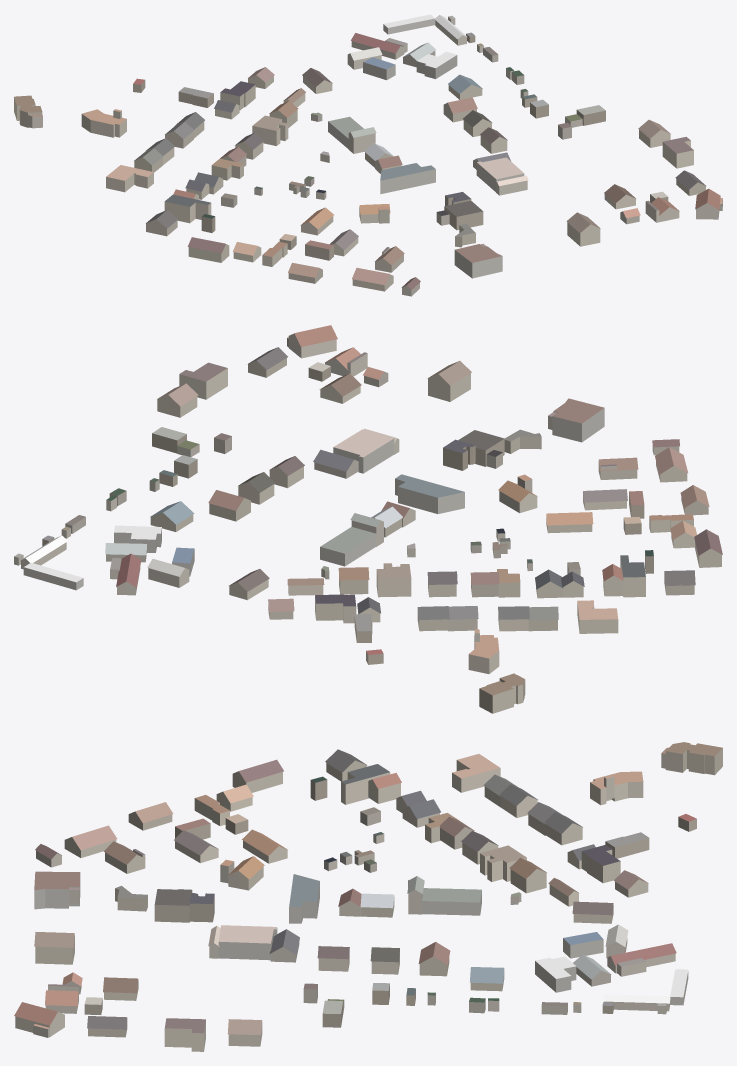
3 views of the same model, one above another, from view 1: azimuth 30°, elevation 25°; view 2: azimuth 150°, elevation 25°; view 3: azimuth 270°, elevation 25° (orthographic). The views are drawn at different scales.
Parts seen in each view (by area): view 1: tuile; view 2: tuile; view 3: tuile.
Boxes of the visible parts, x1,y1,x2,y2 form: tuile: (14,14,722,296); tuile: (14,325,722,713); tuile: (14,742,722,1051).
Bounding box in the file's own units: 264 × 17.76 × 269.
